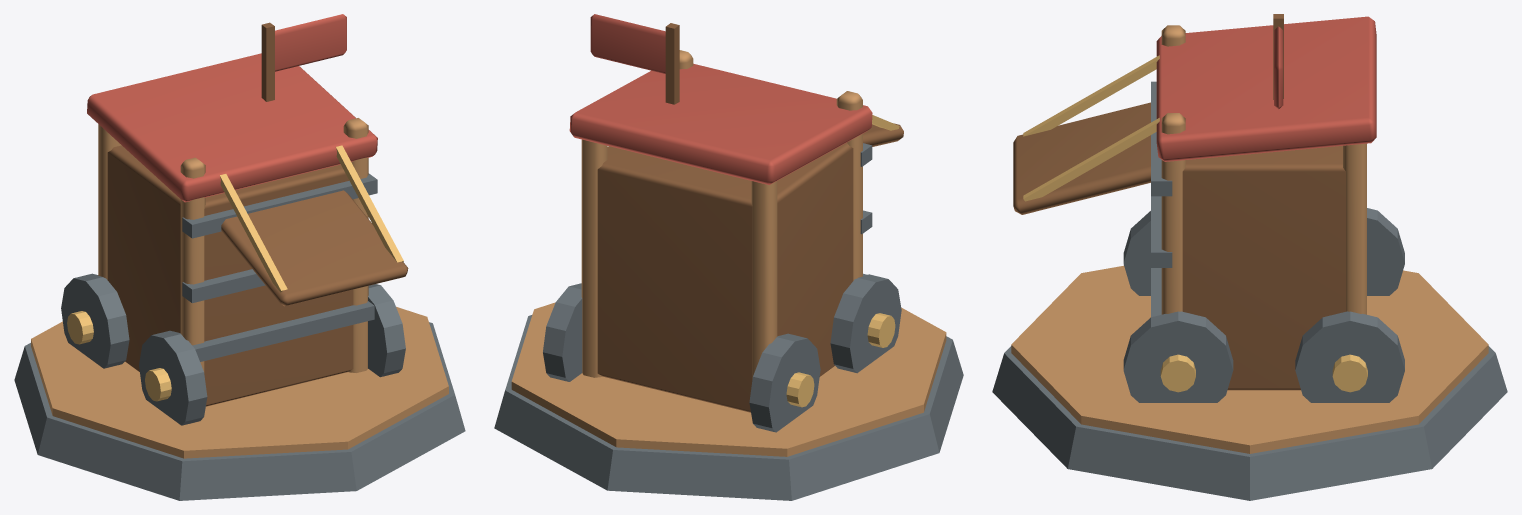
The model's file is war.glb.
3 renders of one model, left to right at view 1: azimuth 30°, elevation 25°; view 2: azimuth 150°, elevation 25°; view 3: azimuth 270°, elevation 25°, orthographic. The views are drawn at different scales.
Parts seen in each view (by area): view 1: Turmrahmen, Fassung.004, Wetterschutz, Sockel.004, Fallbrücke, Rad.001, Rad, Eisenband, Verstärkung, Feldzeichen, Rad.002, Eisenband.002 (+8 smaller); view 2: Turmrahmen, Fassung.004, Sockel.004, Wetterschutz, Rad, Rad.001, Verstärkung.001, Verstärkung.003, Feldzeichen, Rad.003, Verstärkung, Fahnenmast (+3 smaller); view 3: Fassung.004, Turmrahmen, Wetterschutz, Sockel.004, Fallbrücke, Rad.002, Rad.003, Verstärkung.003, Verstärkung.002, Rad.001, Rad, Zugstange.001 (+6 smaller).
Part boxes in pixels (left/top/right/bottom): Turmrahmen: left=107, top=145, right=353, bottom=406; Fassung.004: left=31, top=306, right=448, bottom=458; Wetterschutz: left=87, top=53, right=377, bottom=202; Sockel.004: left=14, top=322, right=465, bottom=500; Fallbrücke: left=221, top=190, right=408, bottom=306; Rad.001: left=61, top=273, right=129, bottom=368; Rad: left=139, top=330, right=207, bottom=425; Eisenband: left=192, top=301, right=374, bottom=361; Verstärkung: left=180, top=157, right=205, bottom=372; Feldzeichen: left=275, top=14, right=346, bottom=71; Rad.002: left=368, top=284, right=405, bottom=377; Eisenband.002: left=182, top=173, right=377, bottom=238; Turmrahmen: left=597, top=143, right=853, bottom=412; Fassung.004: left=511, top=302, right=946, bottom=456; Sockel.004: left=494, top=315, right=963, bottom=500; Wetterschutz: left=569, top=63, right=872, bottom=184; Rad: left=830, top=274, right=901, bottom=373; Rad.001: left=749, top=333, right=820, bottom=432; Verstärkung.001: left=751, top=181, right=777, bottom=379; Verstärkung.003: left=581, top=139, right=607, bottom=377; Feldzeichen: left=590, top=14, right=665, bottom=73; Rad.003: left=543, top=283, right=582, bottom=381; Verstärkung: left=836, top=91, right=862, bottom=280; Fahnenmast: left=665, top=23, right=679, bottom=104; Fassung.004: left=1011, top=265, right=1488, bottom=453; Turmrahmen: left=1182, top=145, right=1345, bottom=390; Wetterschutz: left=1156, top=16, right=1376, bottom=161; Sockel.004: left=992, top=346, right=1507, bottom=500; Fallbrücke: left=1013, top=102, right=1150, bottom=214; Rad.002: left=1123, top=311, right=1233, bottom=402; Rad.003: left=1295, top=311, right=1404, bottom=402; Verstärkung.003: left=1343, top=143, right=1366, bottom=314; Verstärkung.002: left=1161, top=113, right=1185, bottom=314; Rad.001: left=1367, top=208, right=1404, bottom=295; Rad: left=1123, top=211, right=1150, bottom=295; Zugstange.001: left=1023, top=118, right=1159, bottom=201.
Size of the model in its own units: 2.16 by 1.84 by 2.16.
